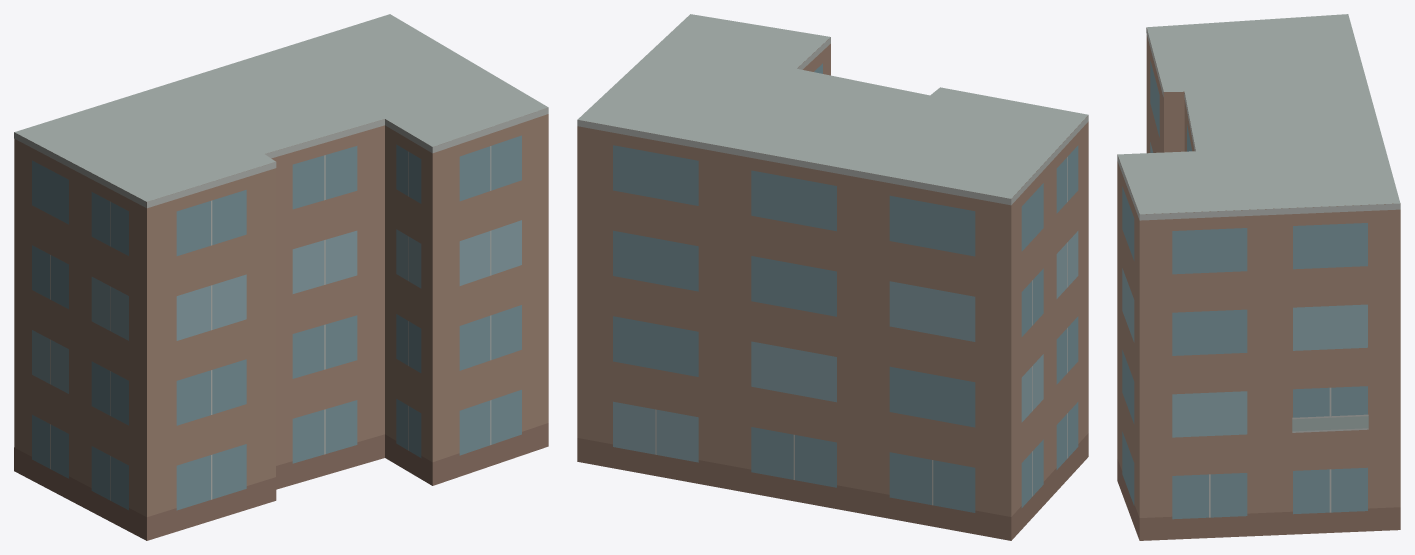
The model's file is survey-upis-32667886.glb.
3 renders of one model, left to right at view 1: azimuth 30°, elevation 25°; view 2: azimuth 150°, elevation 25°; view 3: azimuth 270°, elevation 25°, orthographic. The views are drawn at different scales.
Visible parts, largest first — view 1: survey-upis-32667886.tmp; view 2: survey-upis-32667886.tmp; view 3: survey-upis-32667886.tmp.
Part boxes in pixels (x1,y1,x2,y2): survey-upis-32667886.tmp: (14,14,548,540); survey-upis-32667886.tmp: (577,14,1088,540); survey-upis-32667886.tmp: (1117,14,1400,540).
Size of the model in its own units: 16.99 by 12.9 by 10.15.
